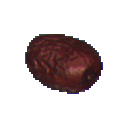gd: (19, 27, 117, 110)
